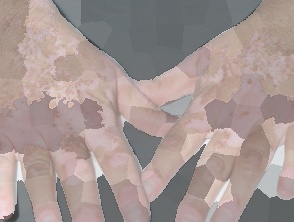vitiligo: (0, 0, 183, 222), (132, 0, 294, 222)
